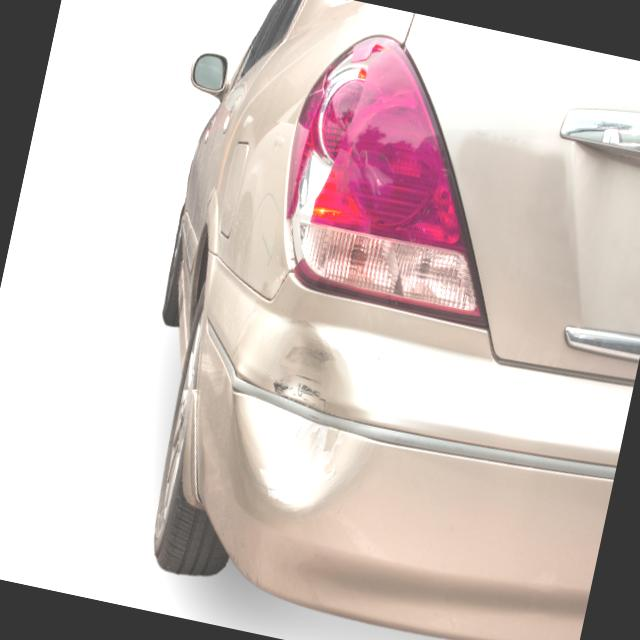Cabossage: (216, 315, 380, 526)
Phare abime: (268, 26, 391, 279)
